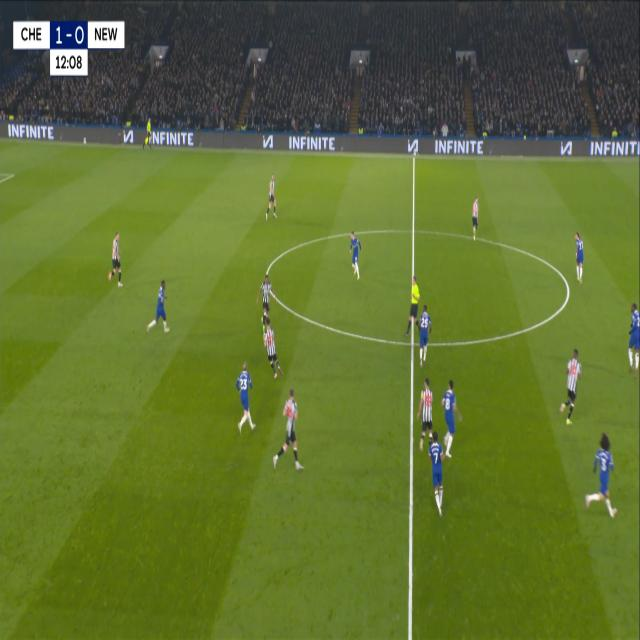Chelsea: (583, 427, 619, 522), (425, 426, 448, 518), (232, 357, 258, 437), (144, 274, 172, 338), (440, 375, 464, 434), (625, 294, 640, 386), (345, 224, 364, 290), (417, 300, 431, 364), (573, 230, 587, 290)
New castle: (270, 385, 306, 475), (558, 344, 584, 429), (259, 312, 285, 383), (106, 224, 124, 294), (416, 374, 436, 430), (264, 169, 279, 226), (467, 189, 481, 248), (256, 270, 272, 315)
Refree: (403, 270, 422, 340)
